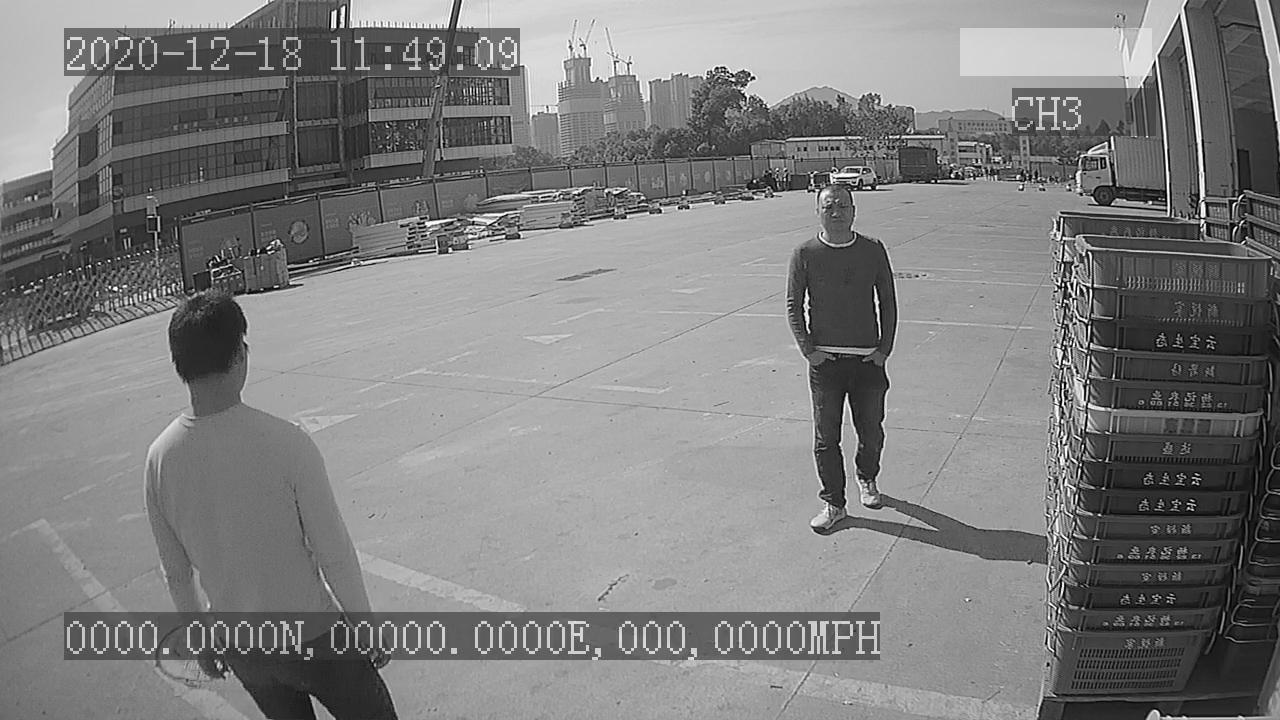person: (783, 183, 902, 535)
